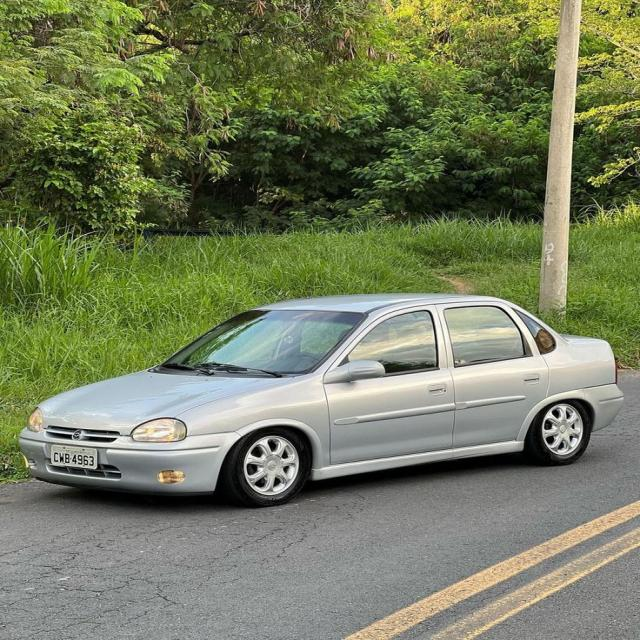Placas: (48, 442, 98, 469)
